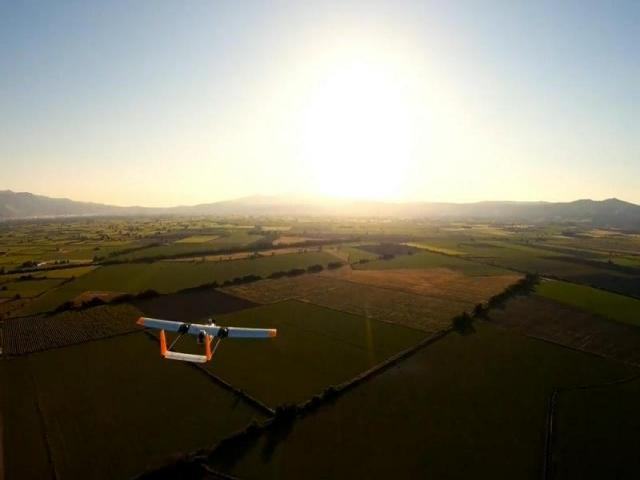hedef: (136, 312, 282, 367)
